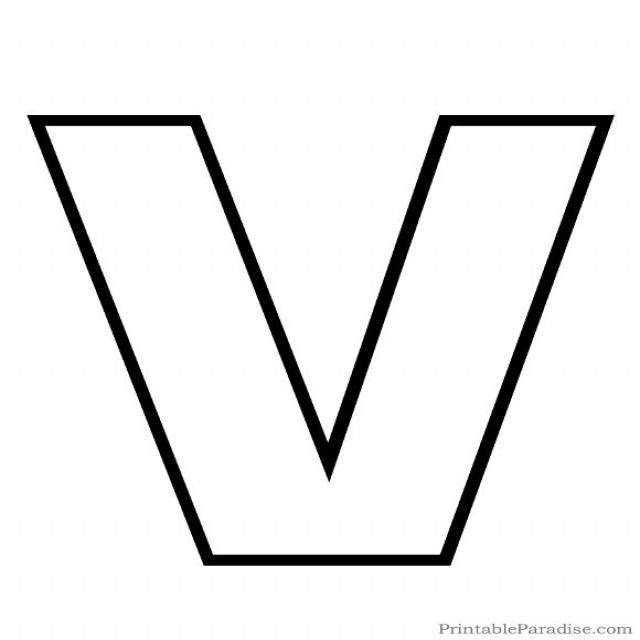V: (10, 74, 619, 604)
